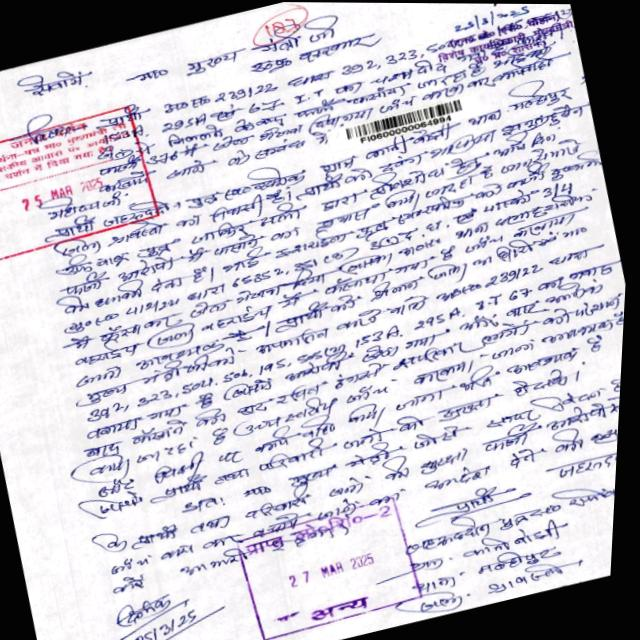antritgovtstamp: (225, 491, 441, 640)
barcode: (337, 91, 469, 150)
jantadarsan: (0, 100, 180, 268)
